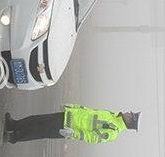person: (3, 102, 144, 144)
